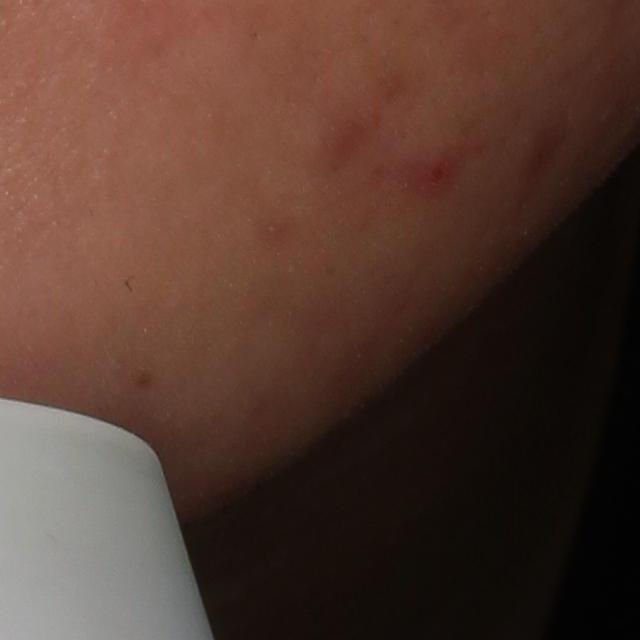papule: (410, 154, 454, 195)
